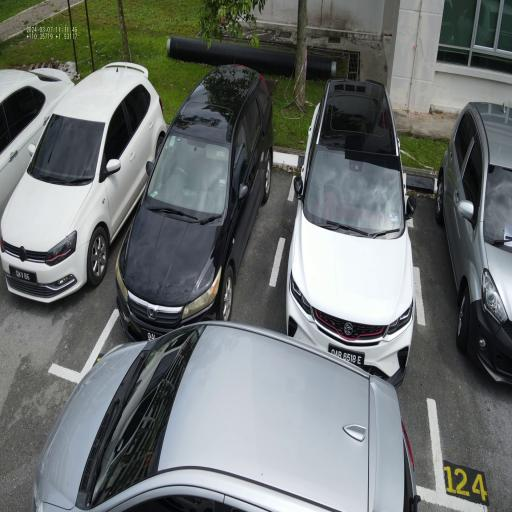Illegal: (20, 316, 423, 512)
Occupied: (82, 160, 300, 394), (253, 168, 440, 426)
